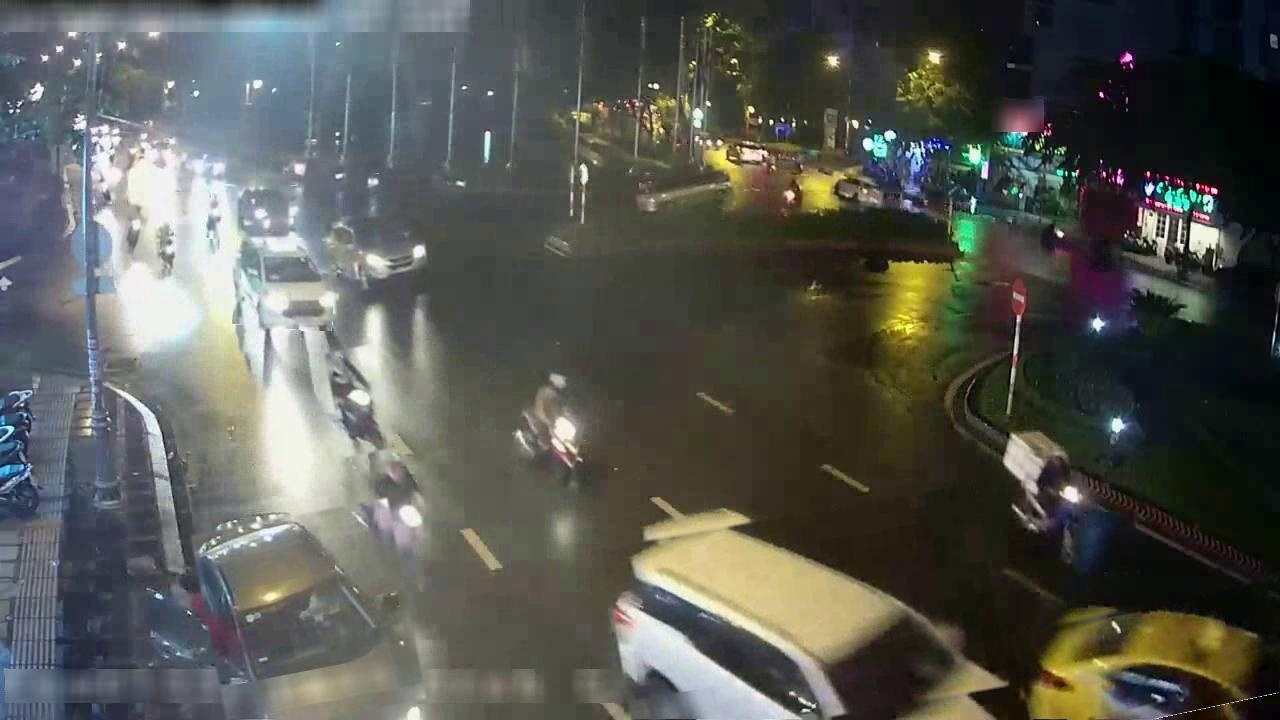Car: (611, 508, 1005, 719), (195, 513, 416, 715), (1027, 607, 1279, 719), (233, 237, 337, 330), (325, 215, 427, 289), (635, 170, 730, 213), (237, 188, 295, 237), (832, 174, 883, 207), (181, 151, 226, 180)
Motorcycle: (0, 462, 40, 516), (0, 388, 33, 432), (0, 426, 29, 457), (0, 440, 27, 466)
Motorcyclist: (512, 372, 593, 483), (328, 347, 384, 449), (374, 455, 426, 561), (1028, 455, 1081, 559), (156, 220, 176, 273), (125, 207, 144, 253), (431, 173, 465, 197), (205, 194, 222, 238), (281, 156, 305, 182), (783, 179, 802, 211), (321, 166, 346, 190), (95, 171, 112, 205), (358, 173, 380, 193)
Sign: (1011, 278, 1027, 317)
